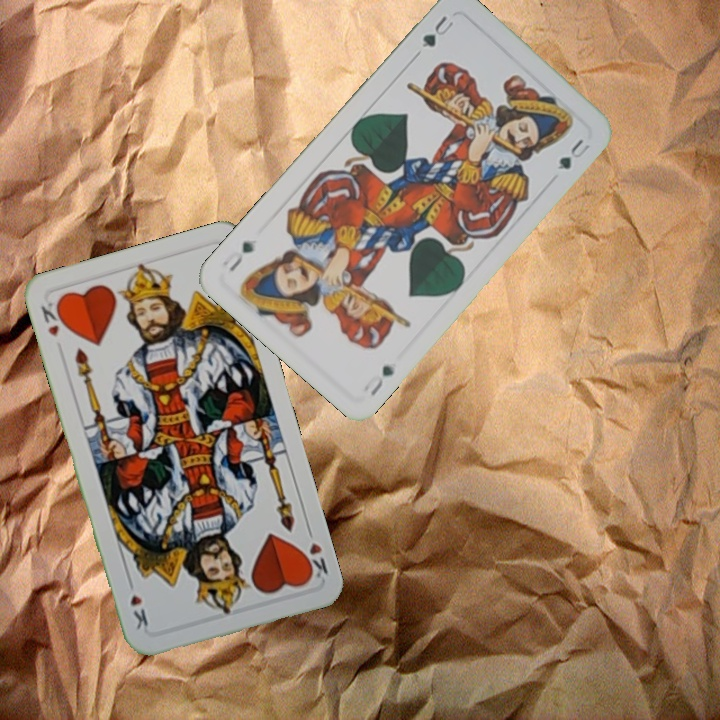GU: (417, 11, 457, 50), (366, 361, 397, 399)
HK: (298, 523, 331, 583), (37, 297, 68, 340)
